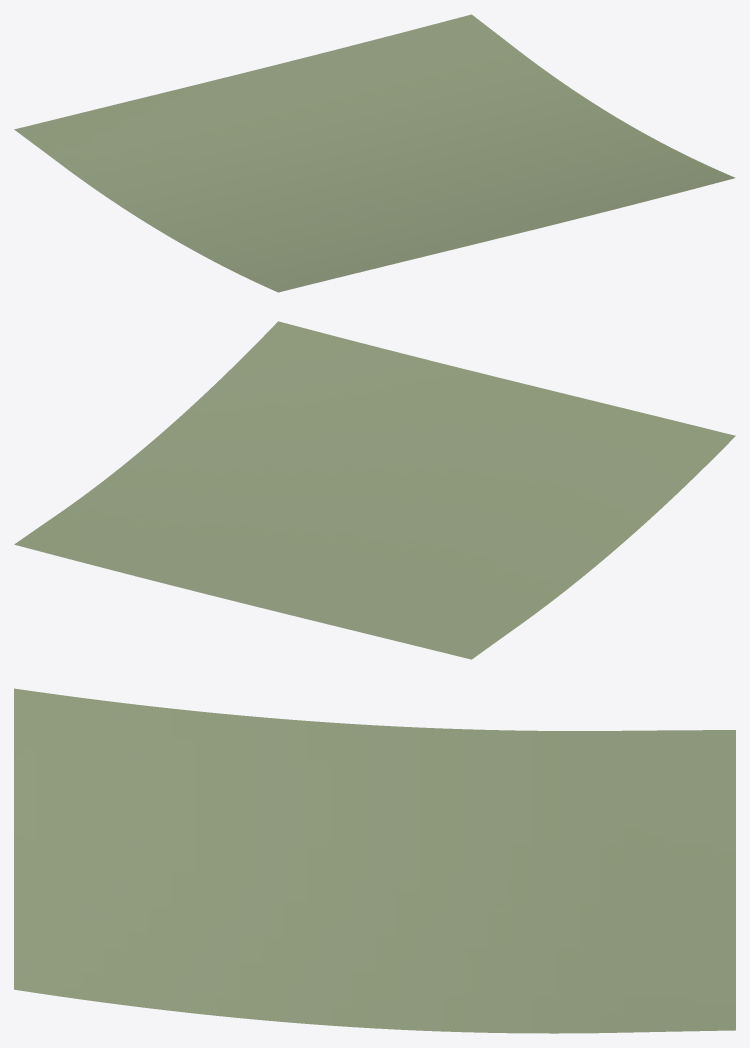
The model's file is expanse-27-3.glb.
3 renders of one model, top to bottom at view 1: azimuth 30°, elevation 25°; view 2: azimuth 150°, elevation 25°; view 3: azimuth 270°, elevation 25°, orthographic. The views are drawn at different scales.
Parts seen in each view (by area): view 1: expanse-27-3; view 2: expanse-27-3; view 3: expanse-27-3.
Boxes of the visible parts, left/top/right/bottom form: expanse-27-3: left=14, top=14, right=735, bottom=292; expanse-27-3: left=14, top=321, right=735, bottom=659; expanse-27-3: left=14, top=688, right=735, bottom=1033.
Bounding box in the file's own units: 256 × 18.34 × 256.
